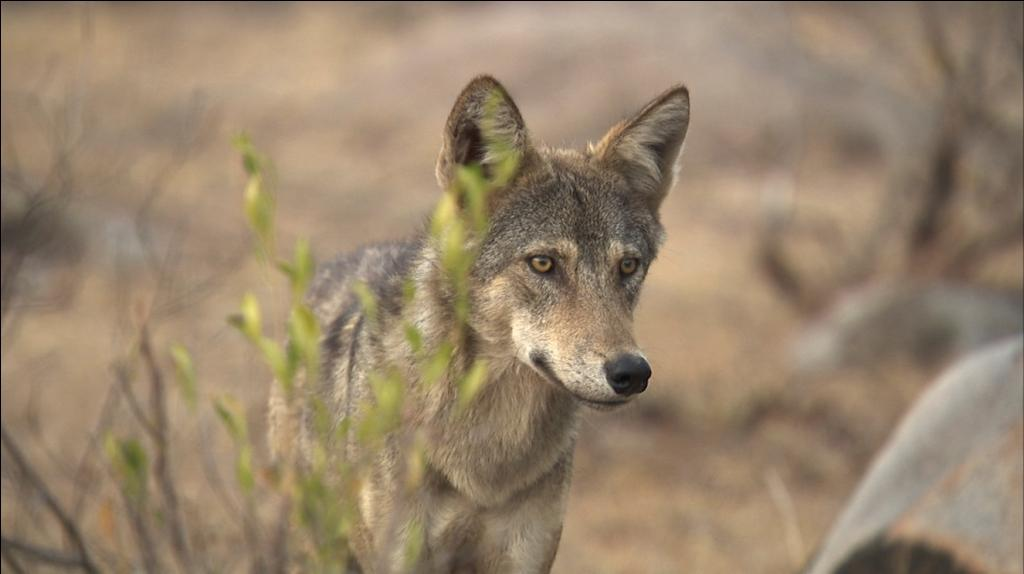wolf: (271, 77, 687, 574)
